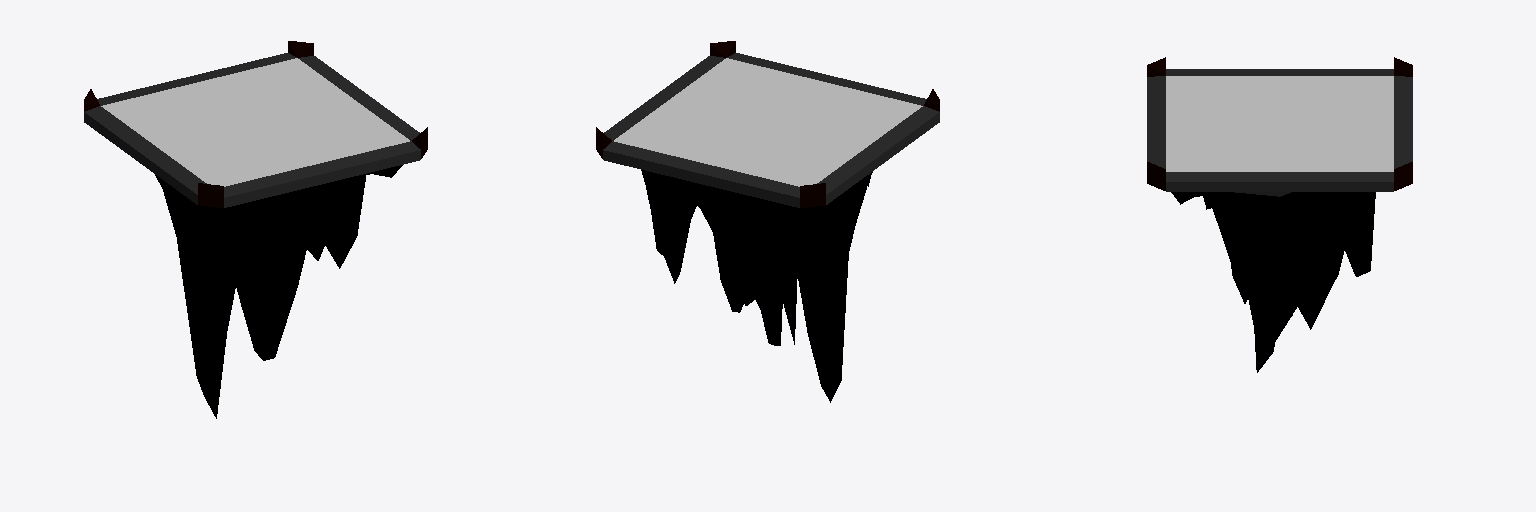
Rendered from LevelPlatform.obj.
3 views of the same model, side by side, from view 1: azimuth 30°, elevation 25°; view 2: azimuth 150°, elevation 25°; view 3: azimuth 270°, elevation 25° (orthographic).
Visible parts, largest first — view 1: Cube; view 2: Cube; view 3: Cube.
Boxes of the visible parts, <box> form: Cube: <box>84,41,427,418</box>; Cube: <box>596,41,939,402</box>; Cube: <box>1147,57,1412,372</box>.
Bounding box in the file's own units: 40 × 47.35 × 40.